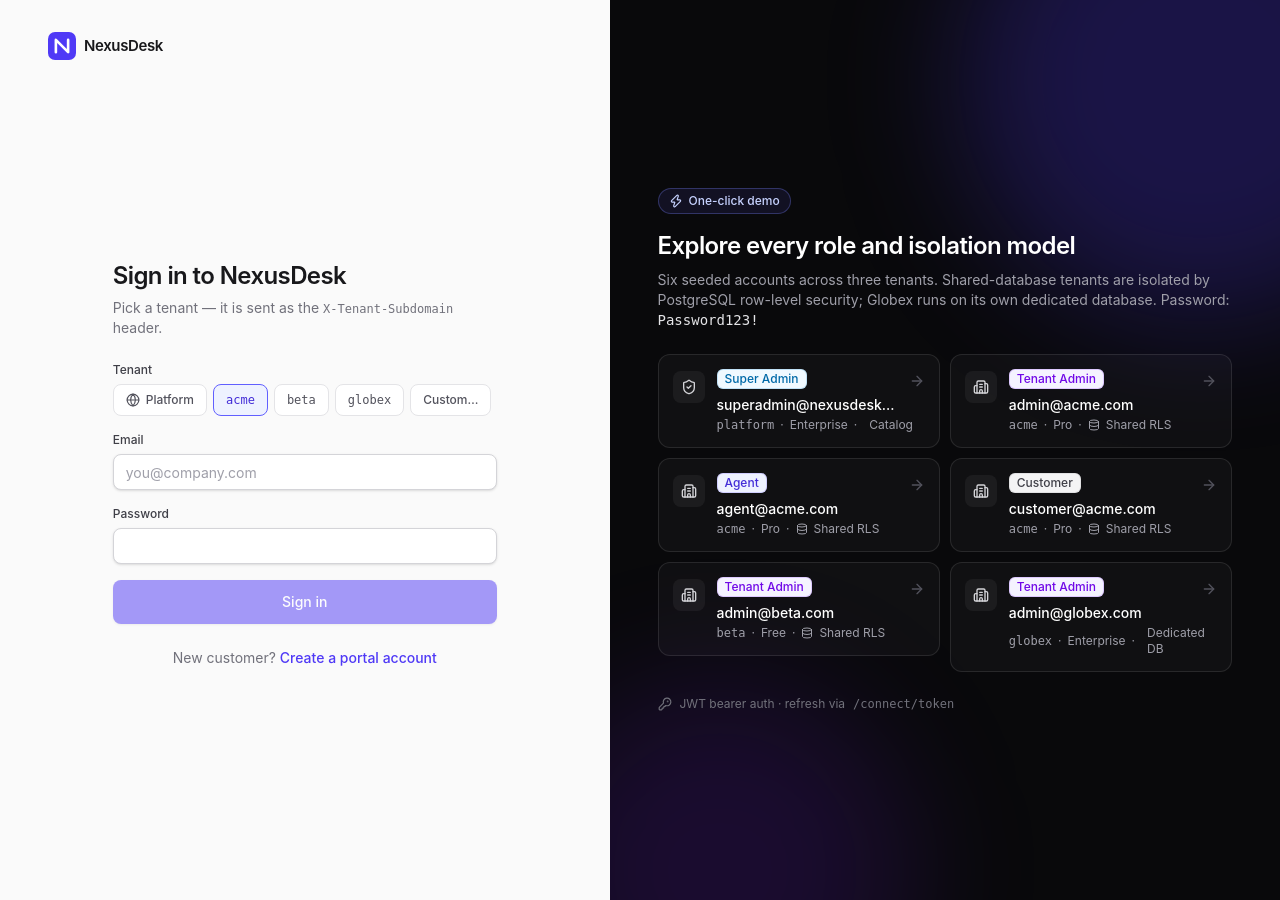
Login flow › quick-logs the SuperAdmin in at platform scope and lands on the tenant directory
Click the button with aria-label "Quick login as superadmin@nexusdesk.com" at (799, 401), box [658,354,940,448]
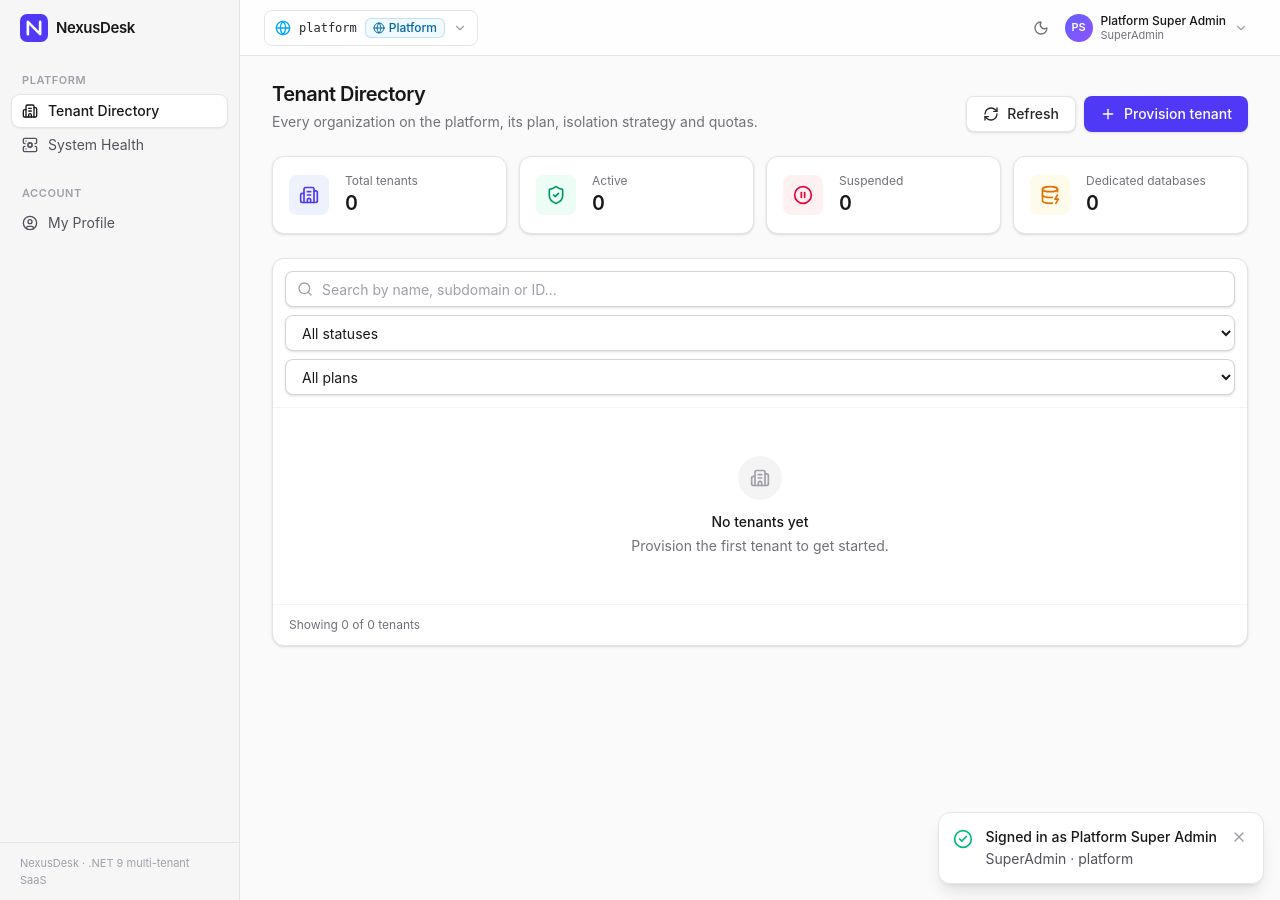
Expected: the text with test id "active-tenant" reads "platform", [299,20,357,34]
